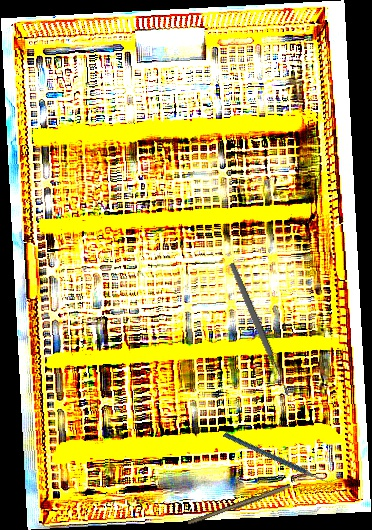Chopper: (222, 400, 339, 515)
Scalpel Handle: (187, 481, 292, 529)
Surgical Spoon: (227, 261, 292, 397)
